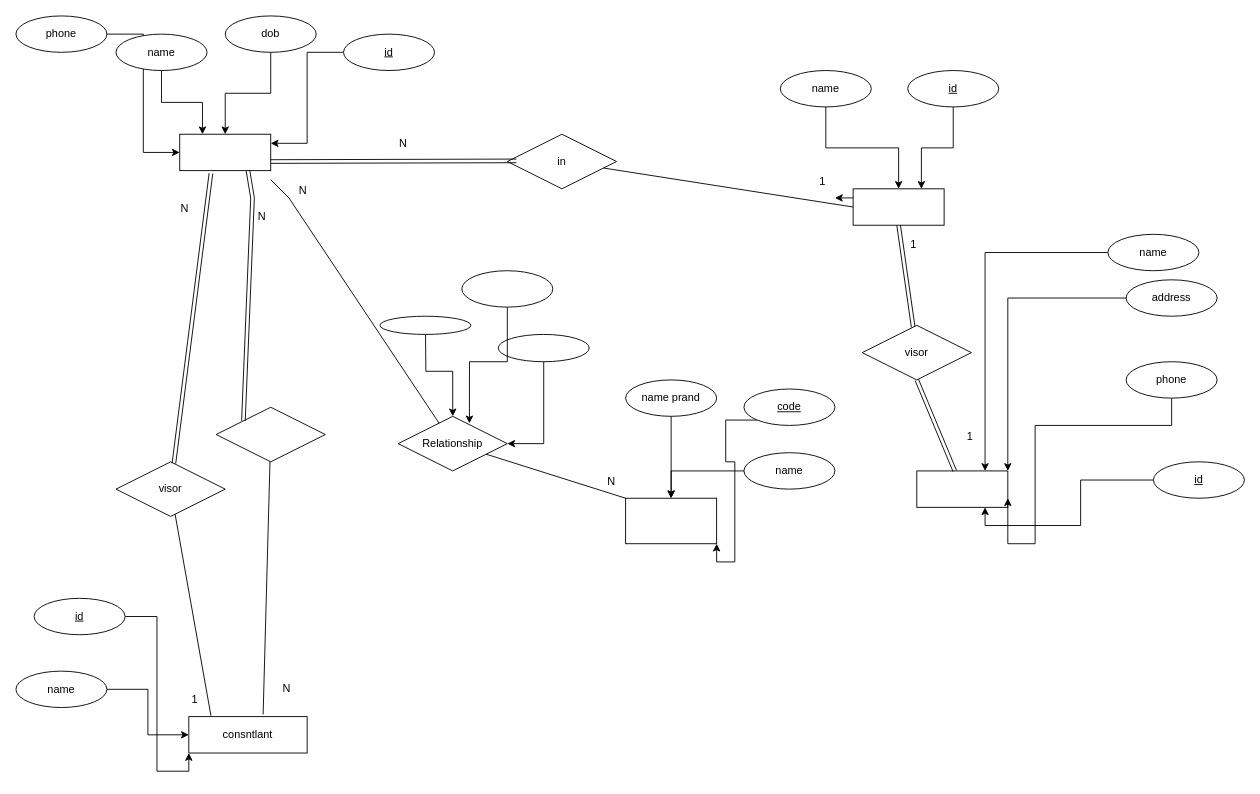
The diagram is 1260 pixels wide and 794 high, and some of its shapes have lost their labels. The centre of each missing label's shape, as x and y in pixels:
contaty: point (425, 324)
date: point (543, 348)
drug: point (671, 520)
examin: point (270, 434)
nurse: point (962, 488)
patiant: point (225, 152)
time: point (507, 288)
ward: point (898, 206)
